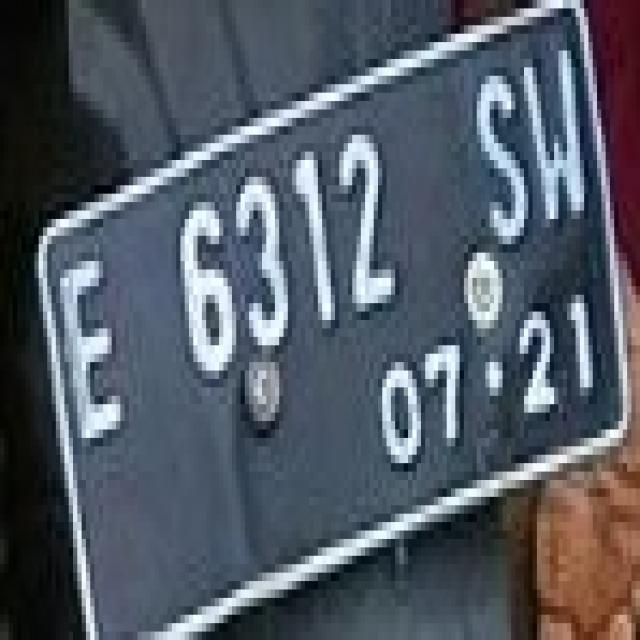plate: (30, 0, 636, 615)
